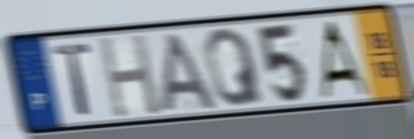5: (254, 20, 310, 105)
A: (159, 31, 221, 114), (317, 17, 372, 100)
H: (95, 31, 164, 121)
Q: (202, 25, 268, 109)
T: (50, 40, 95, 119)
